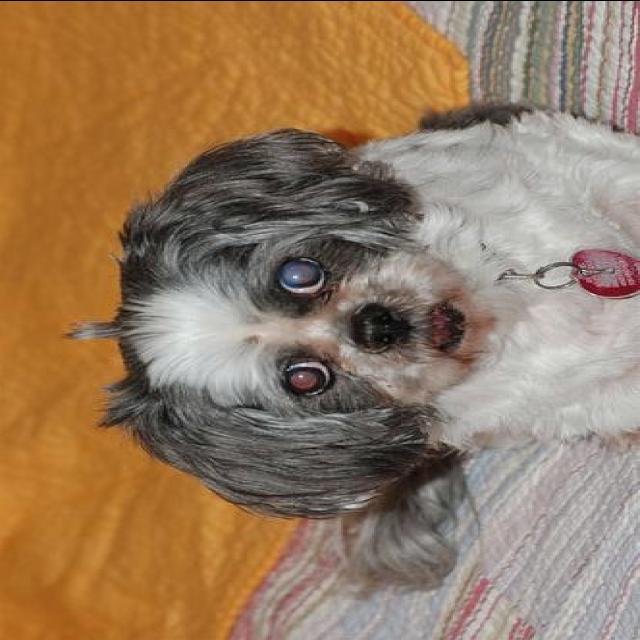shih_tzu: (58, 111, 638, 599)
